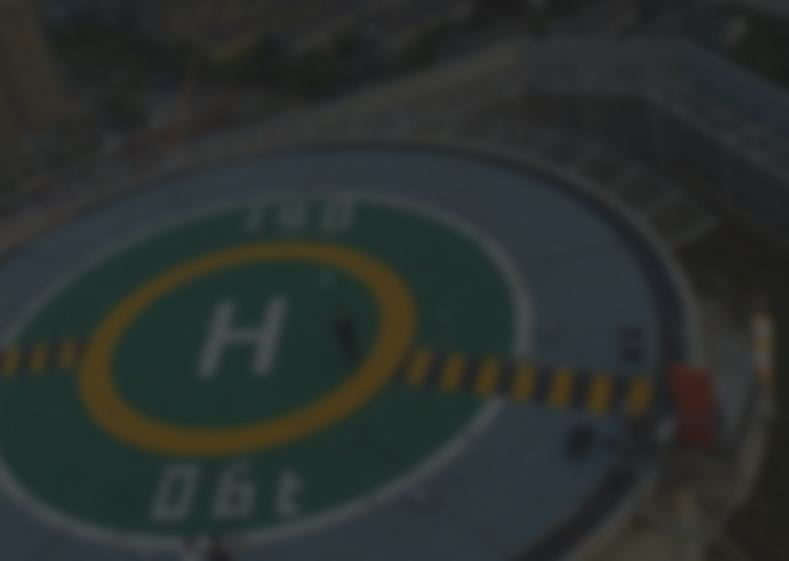Apron: (68, 224, 413, 470)
